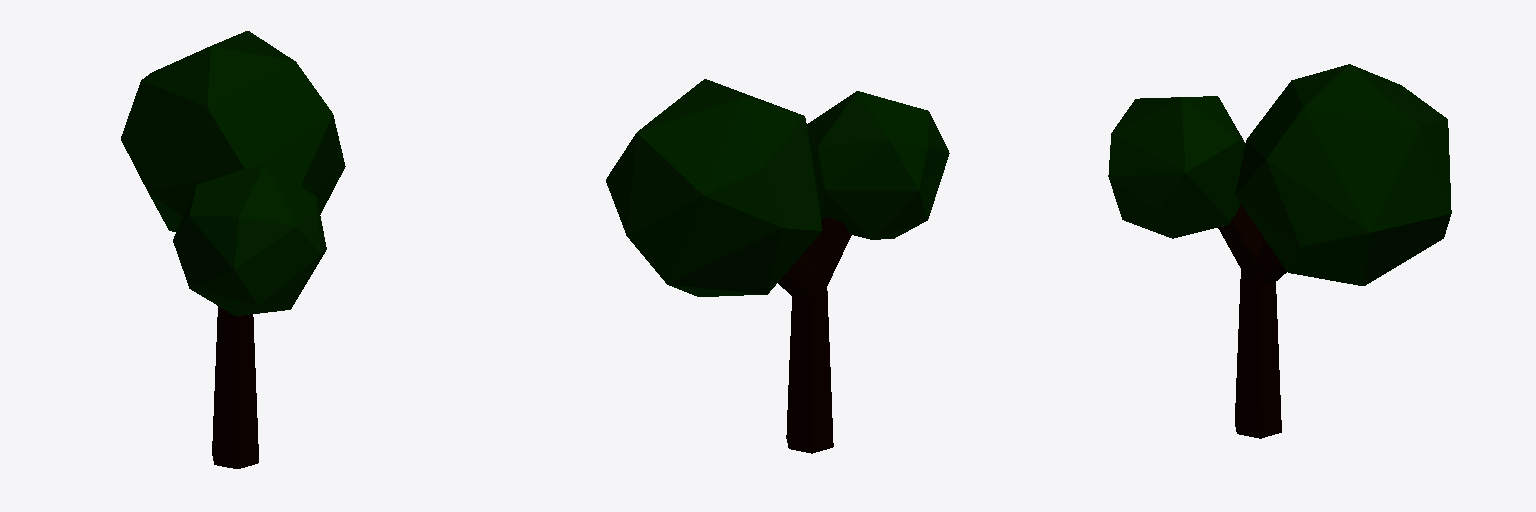
Rendered from tree1.obj.
3 renders of one model, left to right at view 1: azimuth 30°, elevation 25°; view 2: azimuth 150°, elevation 25°; view 3: azimuth 270°, elevation 25°, orthographic.
Parts seen in each view (by area): view 1: Cylinder.006_Cylinder.007; view 2: Cylinder.006_Cylinder.007; view 3: Cylinder.006_Cylinder.007.
Boxes of the visible parts, x1=… form: Cylinder.006_Cylinder.007: x1=121, y1=31, x2=345, y2=468; Cylinder.006_Cylinder.007: x1=606, y1=79, x2=949, y2=453; Cylinder.006_Cylinder.007: x1=1108, y1=64, x2=1451, y2=438.
Bounding box in the file's own units: 1.75 × 2.66 × 2.21.